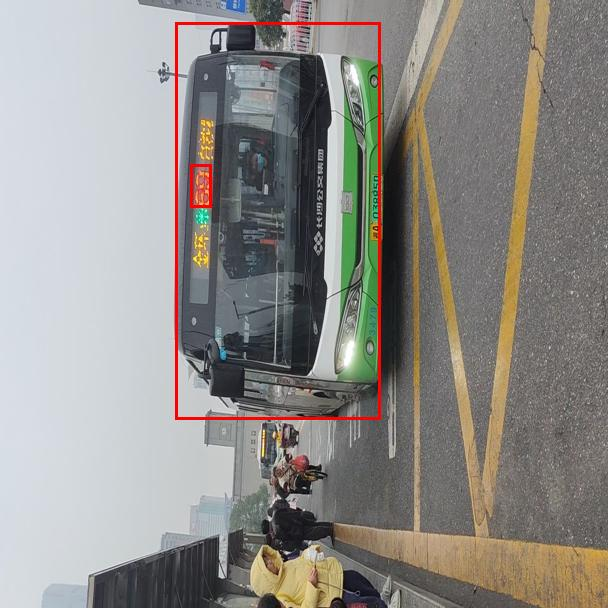bus: (175, 22, 380, 419)
screen: (190, 164, 211, 207)
